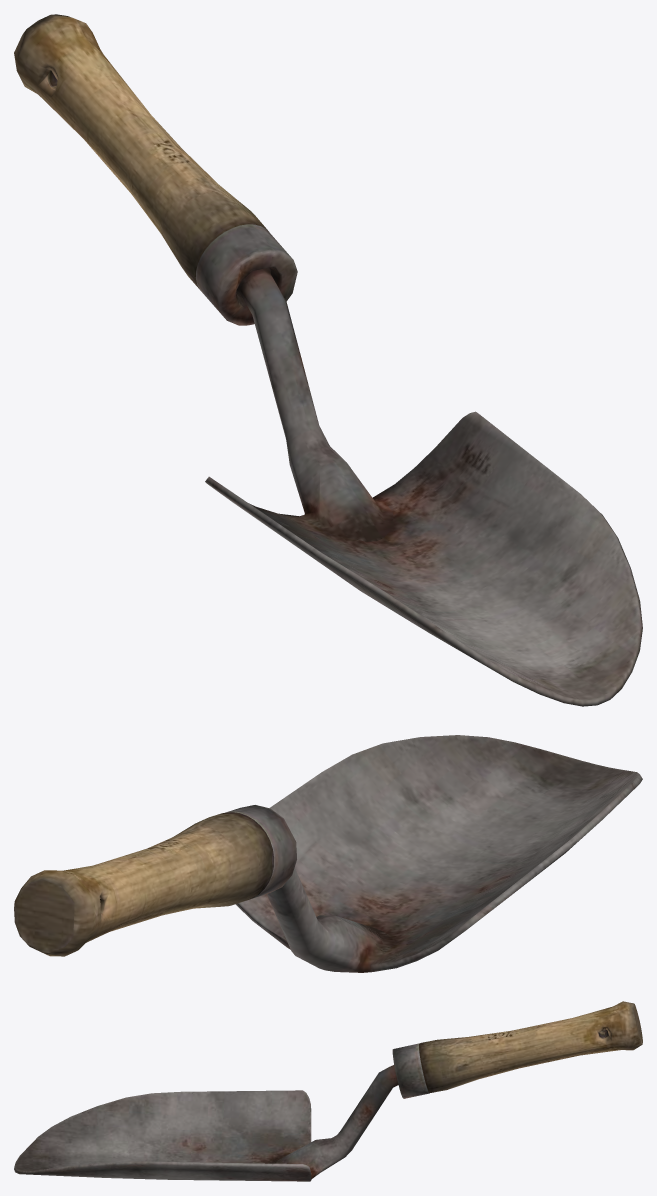
Rendered from trowel.glb.
3 views of the same model, one above another, from view 1: azimuth 30°, elevation 25°; view 2: azimuth 150°, elevation 25°; view 3: azimuth 270°, elevation 25° (orthographic). The views are drawn at different scales.
Visible parts, largest first — view 1: trowel_01; view 2: trowel_01; view 3: trowel_01.
Part boxes in pixels (x1,y1,x2,y2): trowel_01: [14, 14, 642, 706]; trowel_01: [14, 735, 642, 972]; trowel_01: [14, 1001, 642, 1181].
Size of the model in its own units: 0.099 by 0.1026 by 0.3468.
1 material, 1 textured.
